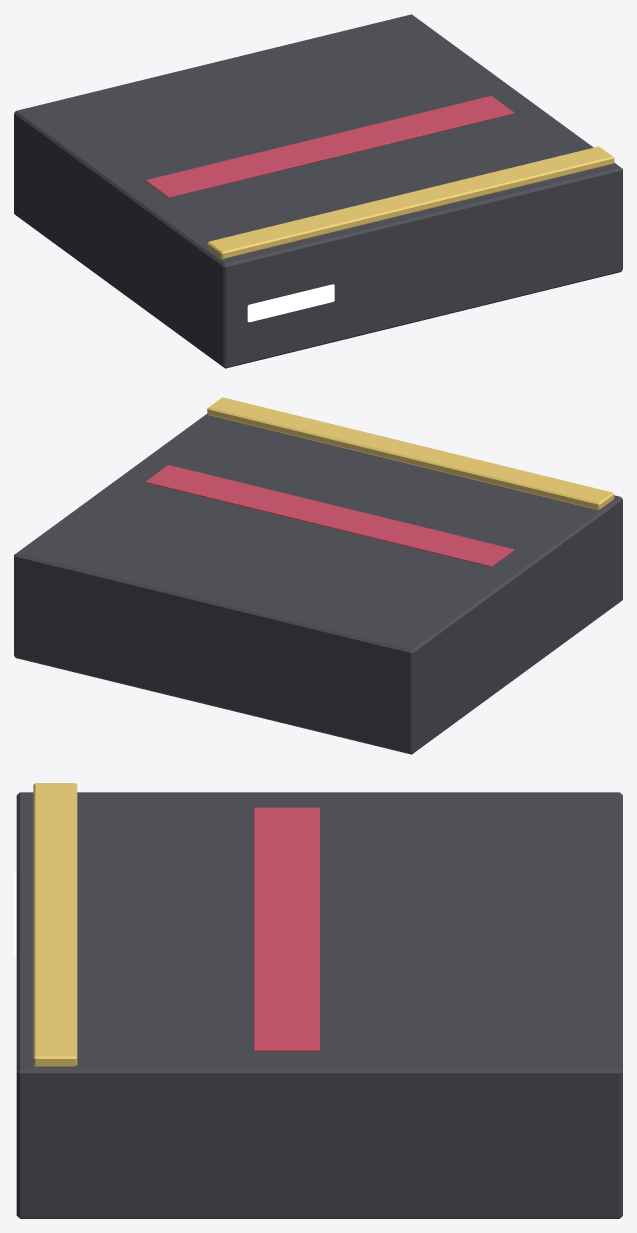
Rendered from cinema-multiplex-and-foyer-aisle-step-module-91f496ec__34648.glb.
The picture shows the model from 3 angles, top to bottom: view 1: azimuth 30°, elevation 25°; view 2: azimuth 150°, elevation 25°; view 3: azimuth 270°, elevation 25°; orthographic projection. The views are drawn at different scales.
Visible parts, largest first — view 1: aisle-step-module; view 2: aisle-step-module; view 3: aisle-step-module.
Part boxes in pixels (left/top/right/bottom): aisle-step-module: left=14, top=14, right=622, bottom=368; aisle-step-module: left=14, top=397, right=622, bottom=754; aisle-step-module: left=14, top=783, right=622, bottom=1218.
Size of the model in its own units: 1.2 by 0.322 by 1.1.
